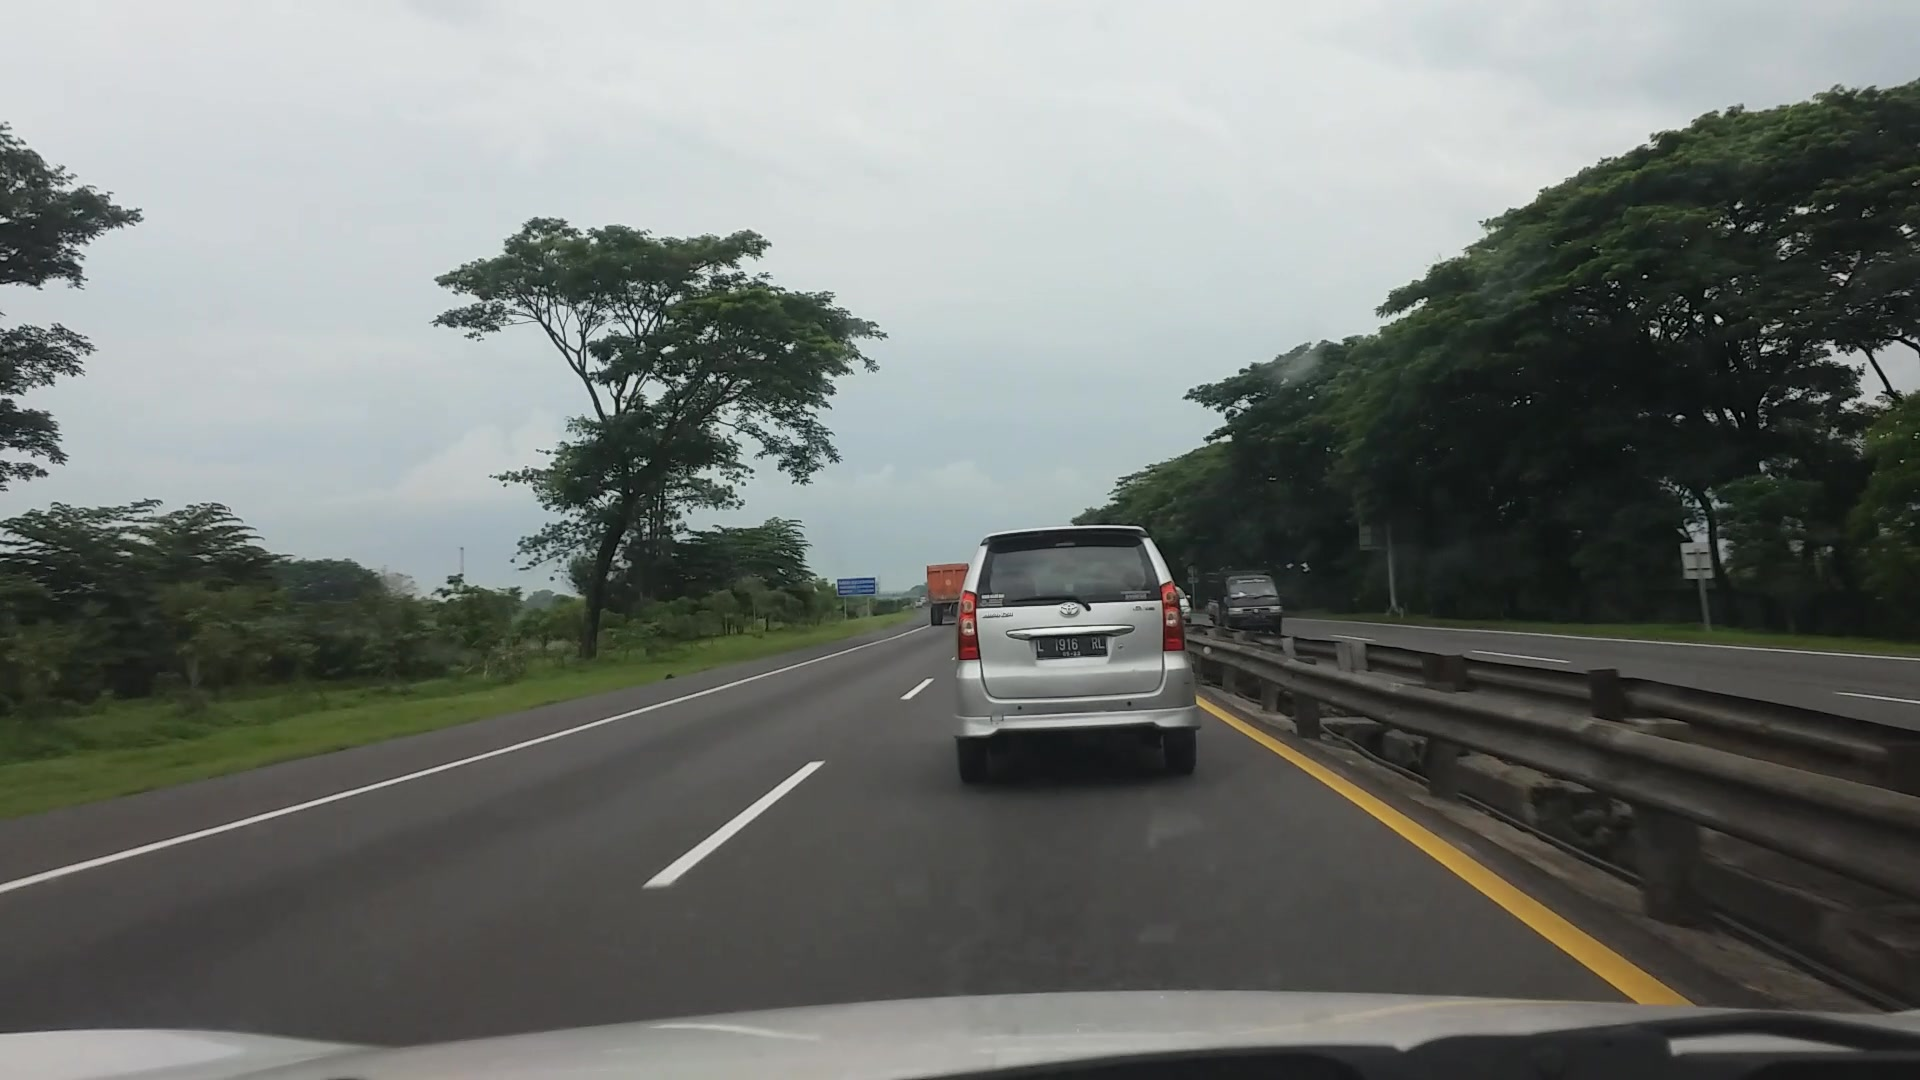plate_positive: (1036, 636, 1108, 659)
